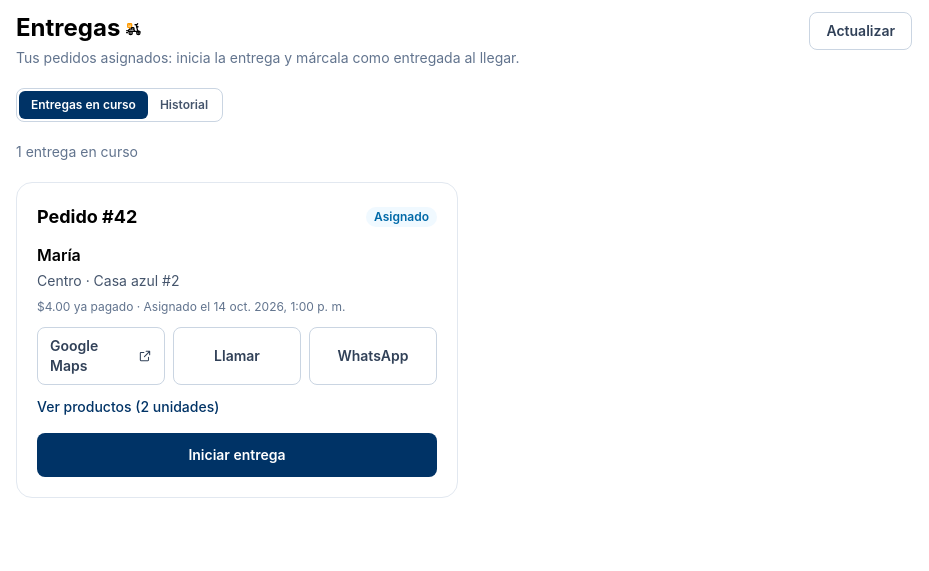
Test: Entregas del repartidor › si la API rechaza el cambio muestra el motivo y vuelve a consultar la lista
The width and height of the screenshot is (929, 571).
Step 1. Click the button "Iniciar entrega" → (237, 455), box [37,433,437,477]
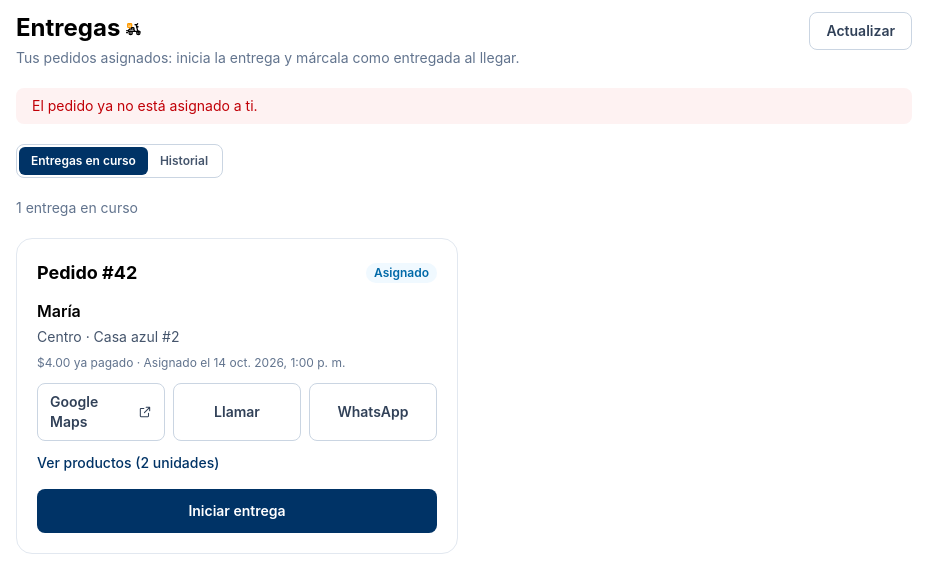
Result: the text "El pedido ya no está asignado a ti." is shown at [16,88,912,124]
